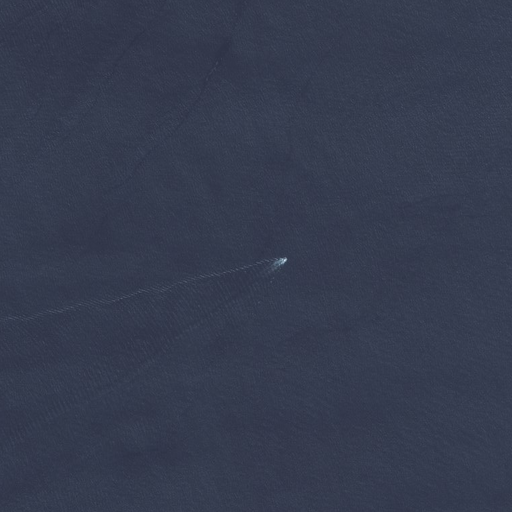ship: (278, 255, 287, 264)
